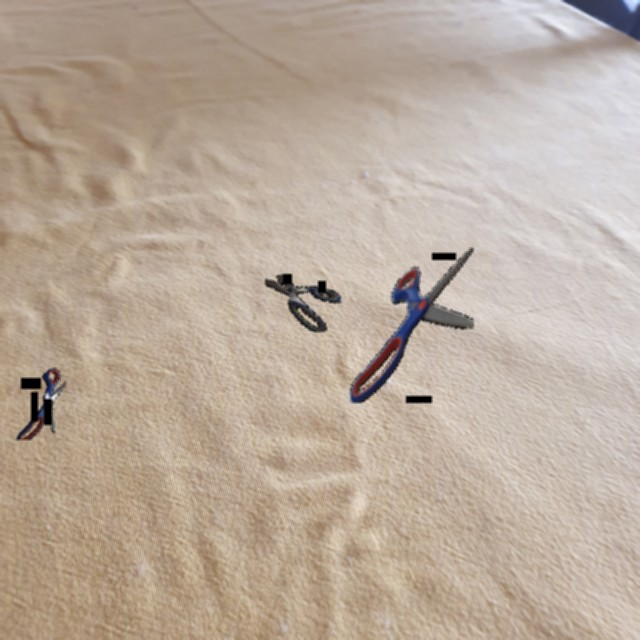scissors: (349, 247, 474, 403), (265, 274, 341, 332), (16, 368, 66, 440)
